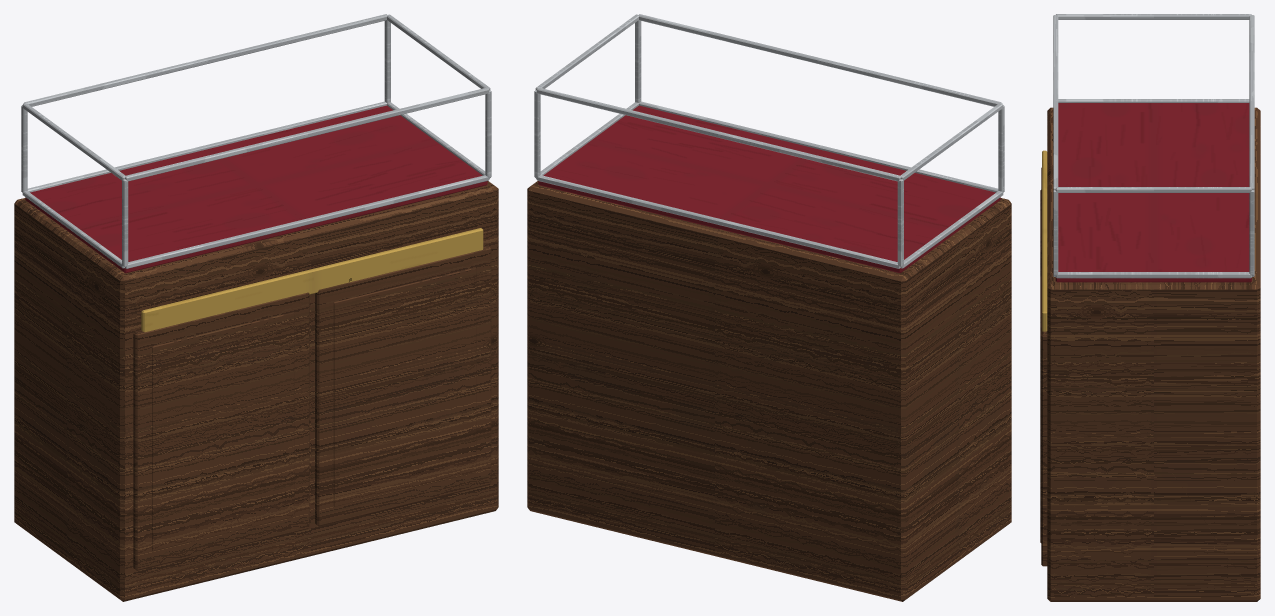
Rendered from display_case.glb.
The picture shows the model from 3 angles, left to right: view 1: azimuth 30°, elevation 25°; view 2: azimuth 150°, elevation 25°; view 3: azimuth 270°, elevation 25°; orthographic projection. The views are drawn at different scales.
Parts seen in each view (by area): view 1: p; view 2: p; view 3: p.
Part boxes in pixels (box(x1,y1,x2,y2)): p: box(14, 14, 498, 601); p: box(527, 14, 1011, 601); p: box(1040, 14, 1260, 601).
Bounding box in the file's own units: 1 × 1.07 × 0.516.
4 materials, 4 textured.
